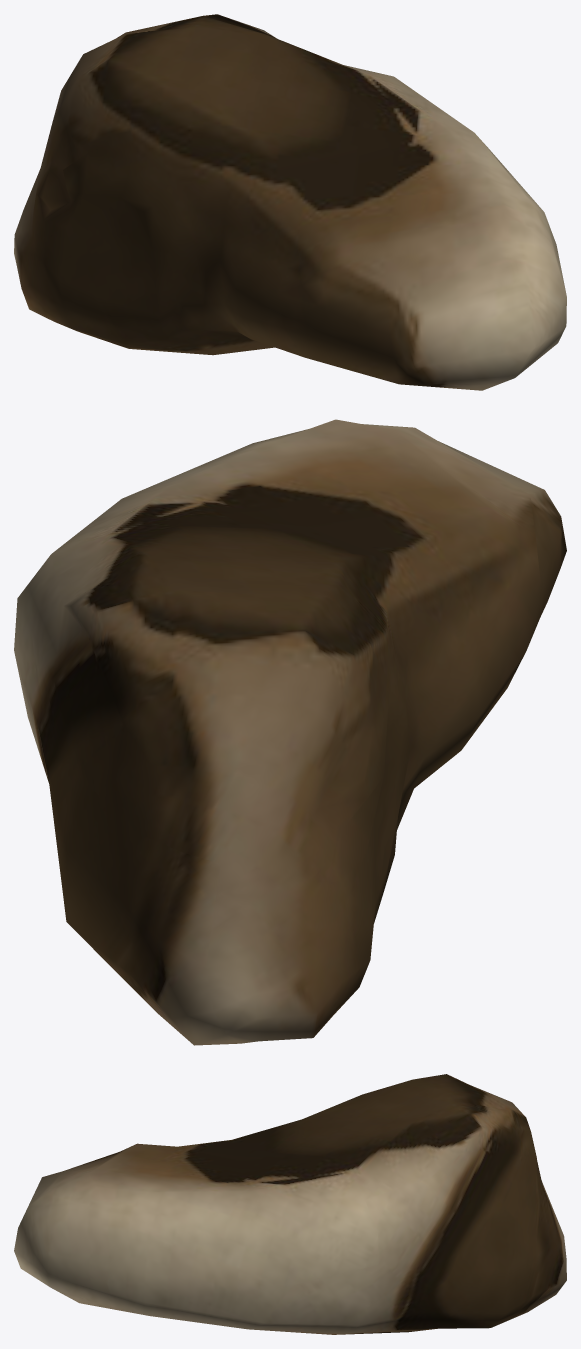
The model's file is Tarsal_II.glb.
3 views of the same model, one above another, from view 1: azimuth 30°, elevation 25°; view 2: azimuth 150°, elevation 25°; view 3: azimuth 270°, elevation 25° (orthographic). The views are drawn at different scales.
Parts seen in each view (by area): view 1: Tarsal_II_Right1:Group30118; view 2: Tarsal_II_Right1:Group30118; view 3: Tarsal_II_Right1:Group30118.
Part boxes in pixels (<box>): Tarsal_II_Right1:Group30118: <box>14,14,566,390</box>; Tarsal_II_Right1:Group30118: <box>14,419,566,1045</box>; Tarsal_II_Right1:Group30118: <box>14,1074,566,1334</box>.
Size of the model in its own units: 6.03 by 4.98 by 10.6.
1 material, 1 textured.
